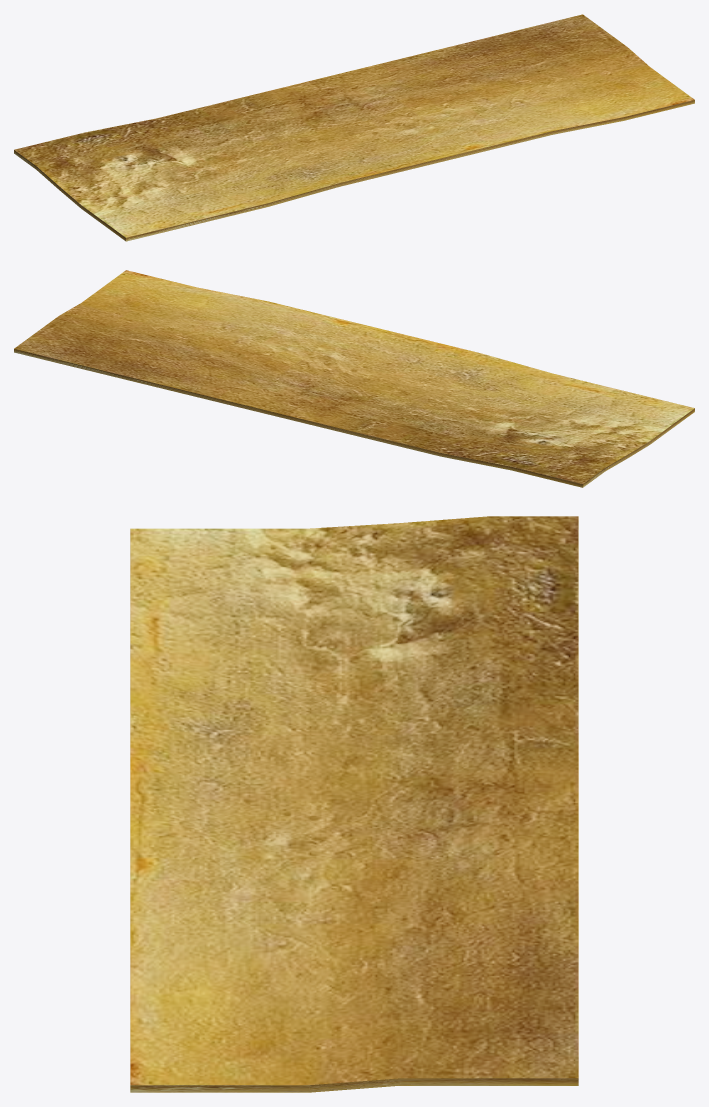
The model's file is 汉代金板.FBX.
3 renders of one model, top to bottom at view 1: azimuth 30°, elevation 25°; view 2: azimuth 150°, elevation 25°; view 3: azimuth 270°, elevation 25°, orthographic. The views are drawn at different scales.
Visible parts, largest first — view 1: Box001; view 2: Box001; view 3: Box001.
Boxes of the visible parts, box(x1,y1,x2,y2) form: Box001: box(14, 14, 694, 241); Box001: box(14, 270, 694, 487); Box001: box(130, 516, 578, 1092).
Bounding box in the file's own units: 82.37 × 1.94 × 28.11.
1 material, 1 textured.
